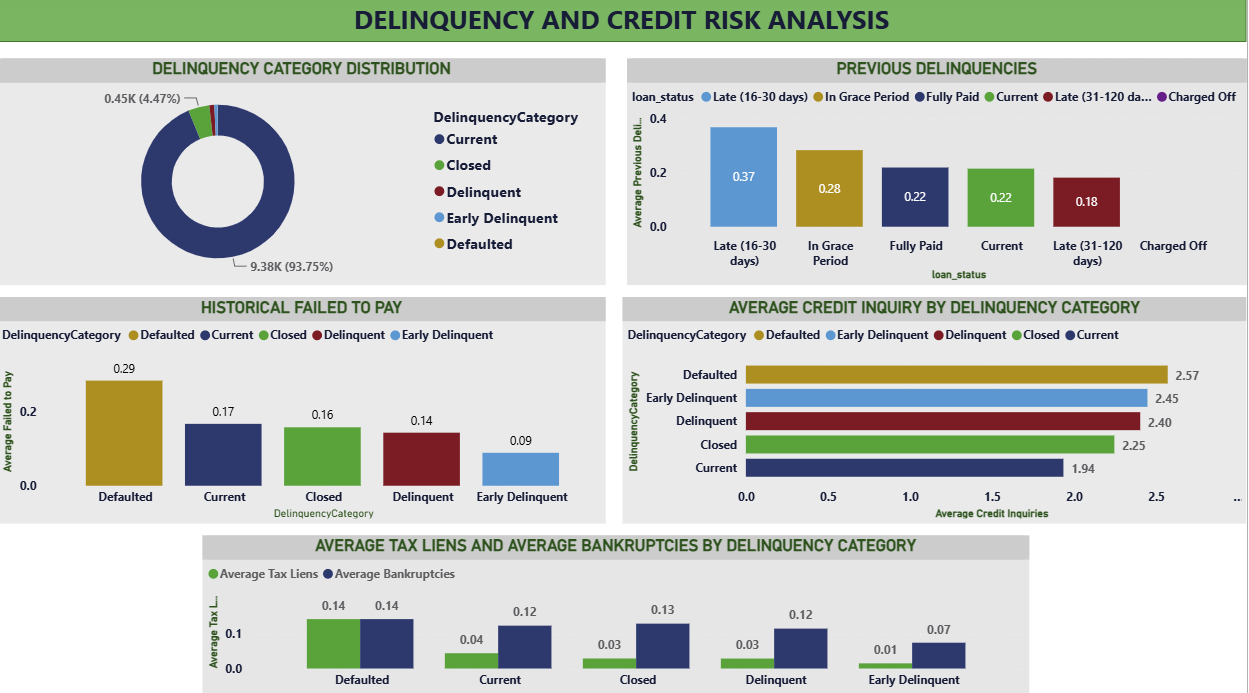

The dashboard page shown, as its layout file describes it:
{"tool":"powerbi","page":{"name":"DELINQUENCY AND CREDIT RISK ANALYSIS","canvas":[1280,720],"ordinal":3},"visuals":[{"type":"shape","box":[0,0,1279.5,49.2],"z":0},{"type":"donutChart","title":"DELINQUENCY CATEGORY DISTRIBUTION","fields":{"Category":["CLEAN_DATASET.DelinquencyCategory"],"Y":["CountNonNull(CLEAN_DATASET.id)"]},"box":[0,66,623.6,231.9],"z":1},{"type":"columnChart","title":"PREVIOUS DELINQUENCIES","fields":{"Category":["CLEAN_DATASET.loan_status"],"Y":["CLEAN_DATASET.Average Previous Delinquencies"],"Series":["CLEAN_DATASET.loan_status"]},"box":[645.1,66,634.4,231.9],"z":2},{"type":"columnChart","title":"HISTORICAL FAILED TO PAY","fields":{"Y":["CLEAN_DATASET.Average Failed to Pay"],"Category":["CLEAN_DATASET.DelinquencyCategory"],"Series":["CLEAN_DATASET.DelinquencyCategory"]},"box":[0,310.3,623.6,231.9],"z":3},{"type":"barChart","title":"AVERAGE CREDIT INQUIRY BY DELINQUENCY CATEGORY","fields":{"Y":["CLEAN_DATASET.Average Credit Inquiries"],"Category":["CLEAN_DATASET.DelinquencyCategory"],"Series":["CLEAN_DATASET.DelinquencyCategory"]},"box":[640.5,310.3,639,231.9],"z":4},{"type":"clusteredColumnChart","title":"AVERAGE TAX LIENS AND AVERAGE BANKRUPTCIES BY DELINQUENCY CATEGORY","fields":{"Y":["CLEAN_DATASET.Average Tax Liens","CLEAN_DATASET.Average Bankruptcies"],"Category":["CLEAN_DATASET.DelinquencyCategory"]},"box":[210.4,554.5,846.3,165.9],"z":5}]}

Visuals, with their boxes in screenshot pixels (x1, y1, x2, y2), scaled from the page's 1280x720 canvas onto the 1249x693 screenshot:
shape: [0, 0, 1248, 47]
"DELINQUENCY CATEGORY DISTRIBUTION" donutChart: [0, 64, 608, 287]
"PREVIOUS DELINQUENCIES" columnChart: [629, 64, 1248, 287]
"HISTORICAL FAILED TO PAY" columnChart: [0, 299, 608, 522]
"AVERAGE CREDIT INQUIRY BY DELINQUENCY CATEGORY" barChart: [625, 299, 1248, 522]
"AVERAGE TAX LIENS AND AVERAGE BANKRUPTCIES BY DELINQUENCY CATEGORY" clusteredColumnChart: [205, 534, 1031, 692]
